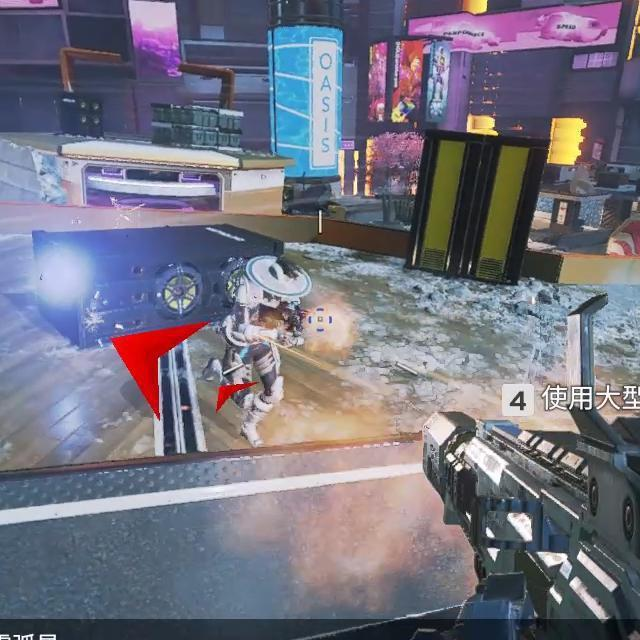avatar: (206, 251, 313, 449)
